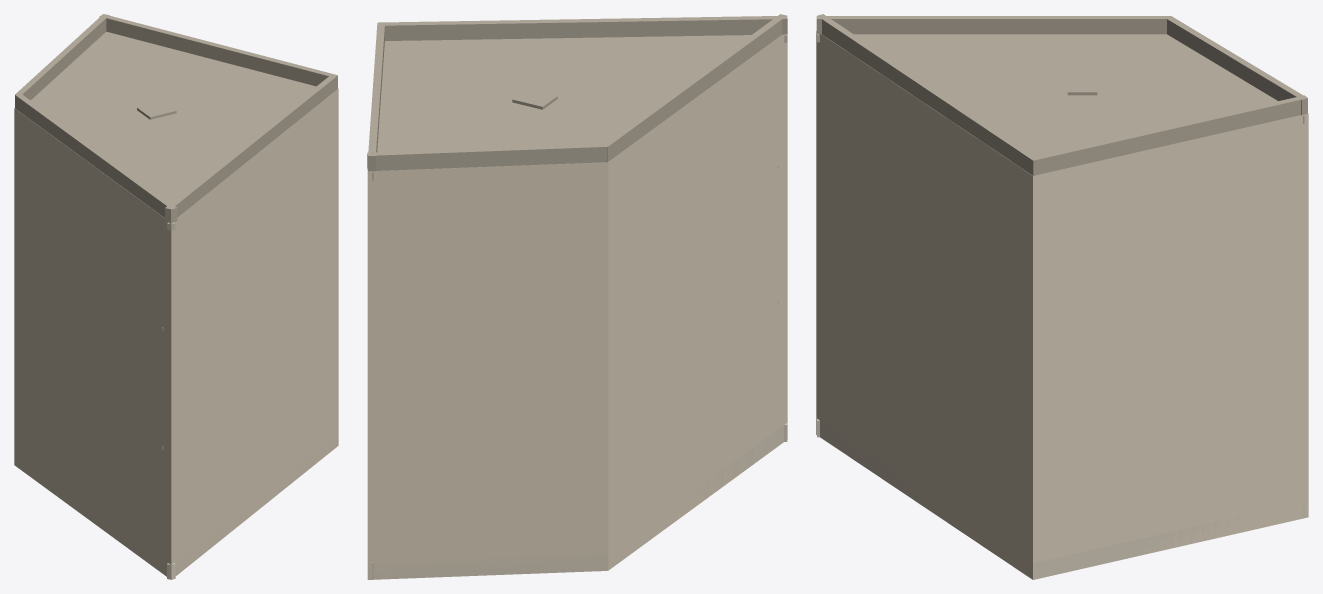
The model's file is cop_art_deco_carioca_01__way_488127741.fbx.
3 views of the same model, side by side, from view 1: azimuth 30°, elevation 25°; view 2: azimuth 150°, elevation 25°; view 3: azimuth 270°, elevation 25° (orthographic). The views are drawn at different scales.
Visible parts, largest first — view 1: cop_art_deco_carioca_01__way_488127741_wall, cop_art_deco_carioca_01__way_488127741_roof, cop_art_deco_carioca_01__way_488127741_stone; view 2: cop_art_deco_carioca_01__way_488127741_wall, cop_art_deco_carioca_01__way_488127741_roof, cop_art_deco_carioca_01__way_488127741_stone; view 3: cop_art_deco_carioca_01__way_488127741_wall, cop_art_deco_carioca_01__way_488127741_roof, cop_art_deco_carioca_01__way_488127741_stone.
Part boxes in pixels (bbox=[...]): cop_art_deco_carioca_01__way_488127741_wall: bbox=[14, 89, 338, 579]; cop_art_deco_carioca_01__way_488127741_roof: bbox=[14, 14, 337, 222]; cop_art_deco_carioca_01__way_488127741_stone: bbox=[15, 327, 337, 579]; cop_art_deco_carioca_01__way_488127741_wall: bbox=[367, 34, 787, 579]; cop_art_deco_carioca_01__way_488127741_roof: bbox=[367, 14, 787, 171]; cop_art_deco_carioca_01__way_488127741_stone: bbox=[368, 164, 787, 579]; cop_art_deco_carioca_01__way_488127741_wall: bbox=[816, 31, 1308, 579]; cop_art_deco_carioca_01__way_488127741_roof: bbox=[816, 14, 1307, 175]; cop_art_deco_carioca_01__way_488127741_stone: bbox=[816, 418, 1307, 579].
Bounding box in the file's own units: 1404 × 1869 × 1989.
